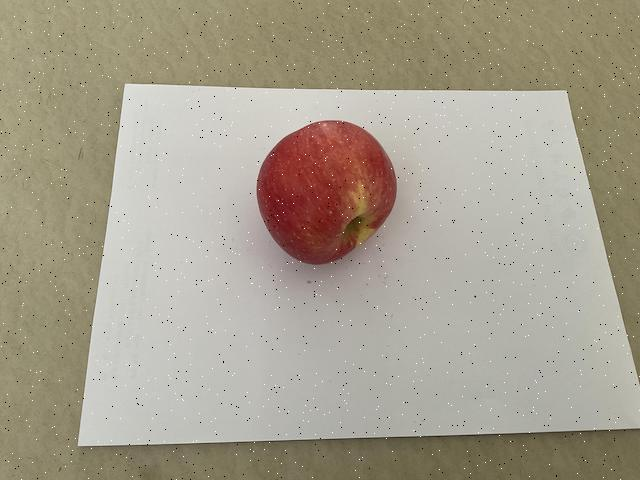apple: (252, 114, 404, 271)
